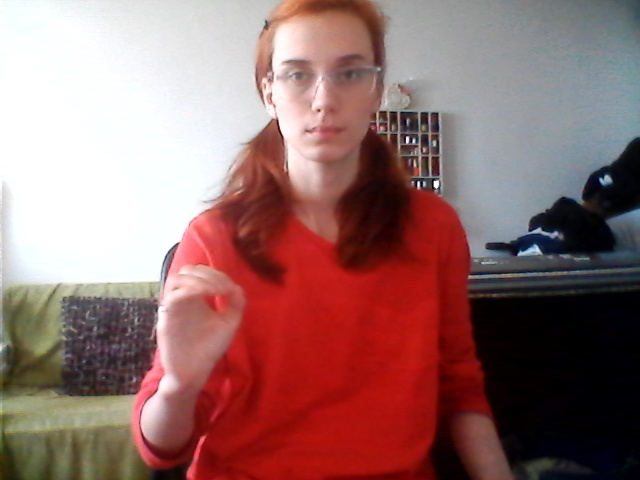o: (145, 261, 255, 393)
